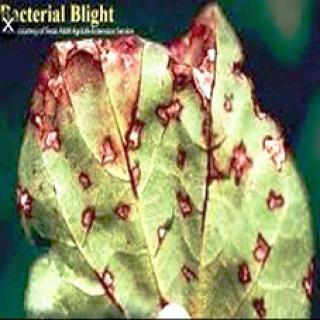blight: (21, 51, 291, 246)
